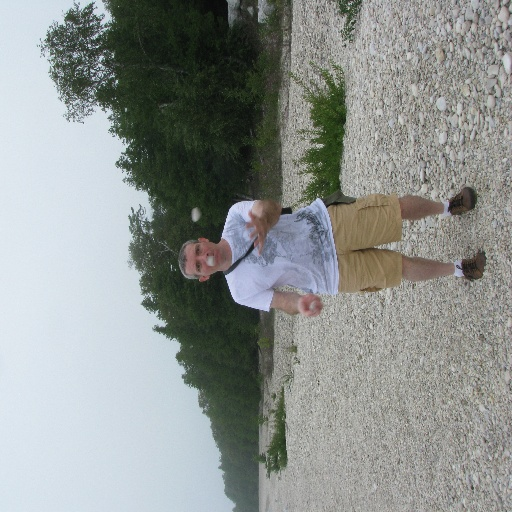hand: (245, 213, 264, 255), (296, 292, 322, 316)
